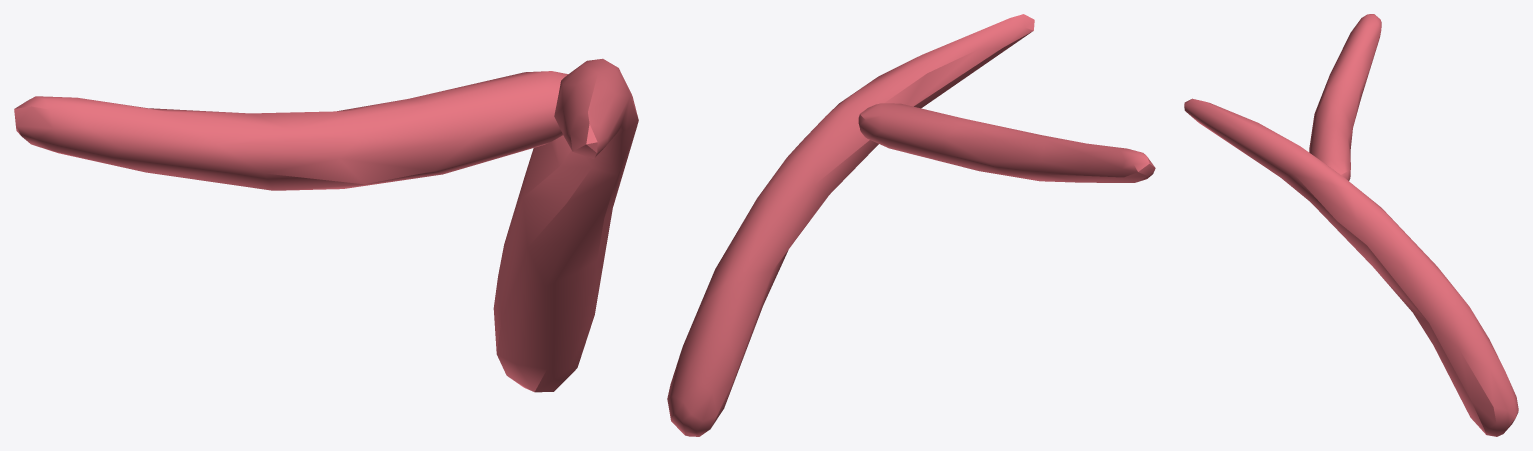
Rendered from fma68921_cx192.glb.
The picture shows the model from 3 angles, left to right: view 1: azimuth 30°, elevation 25°; view 2: azimuth 150°, elevation 25°; view 3: azimuth 270°, elevation 25°; orthographic projection. The views are drawn at different scales.
Visible parts, largest first — view 1: FMA68921_CX192; view 2: FMA68921_CX192; view 3: FMA68921_CX192.
Boxes of the visible parts, x1,y1,x2,y2 form: FMA68921_CX192: (14,58,638,392); FMA68921_CX192: (667,14,1155,436); FMA68921_CX192: (1184,14,1518,436).
Bounding box in the file's own units: 0.0256 × 0.0195 × 0.0215.
